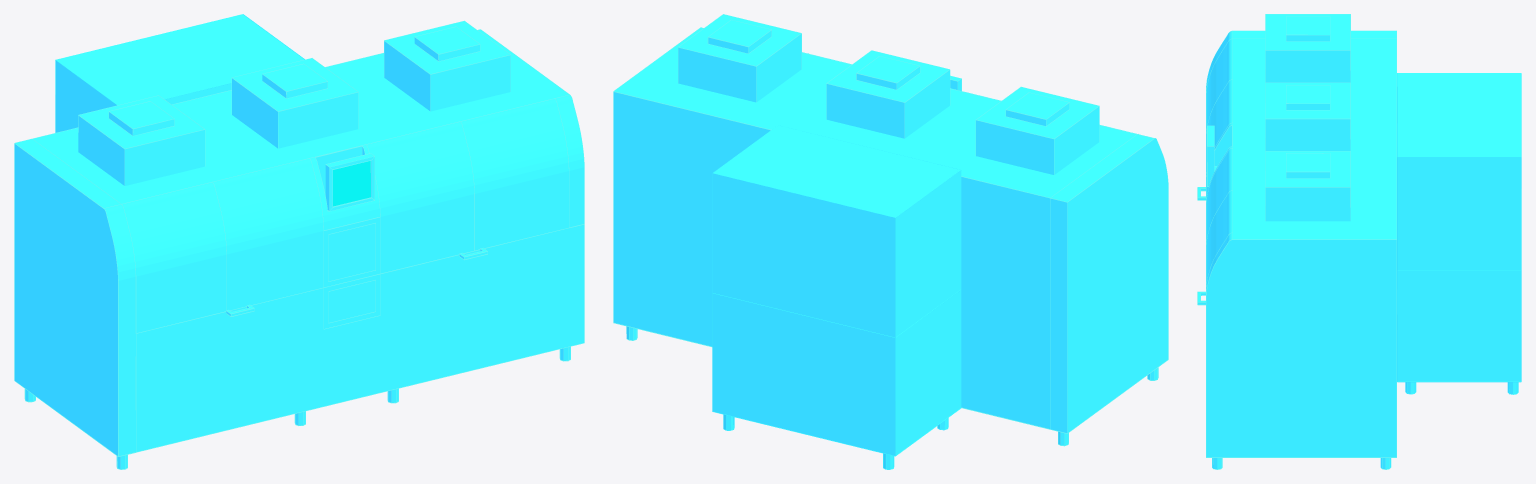
The model's file is FOG.fbx.
3 renders of one model, left to right at view 1: azimuth 30°, elevation 25°; view 2: azimuth 150°, elevation 25°; view 3: azimuth 270°, elevation 25°, orthographic. The views are drawn at different scales.
Visible parts, largest first — view 1: 5, 后2; view 2: 5, 后2; view 3: 5, 后2.
Part boxes in pixels (box(x1,y1,x2,y2)): 5: box(14, 20, 584, 469); 后2: box(55, 14, 304, 132); 5: box(613, 14, 1168, 446); 后2: box(712, 125, 961, 469); 5: box(1197, 14, 1396, 469); 后2: box(1397, 73, 1521, 394).
Size of the model in its own units: 299 by 184 by 196.
